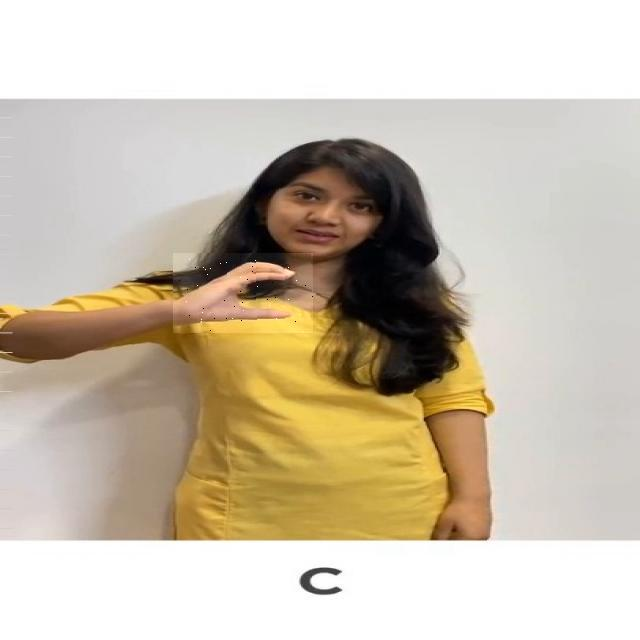C: (174, 253, 316, 333)
